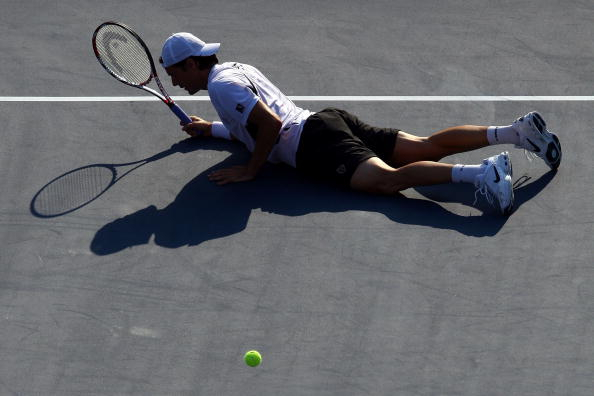fall: (162, 37, 553, 212)
